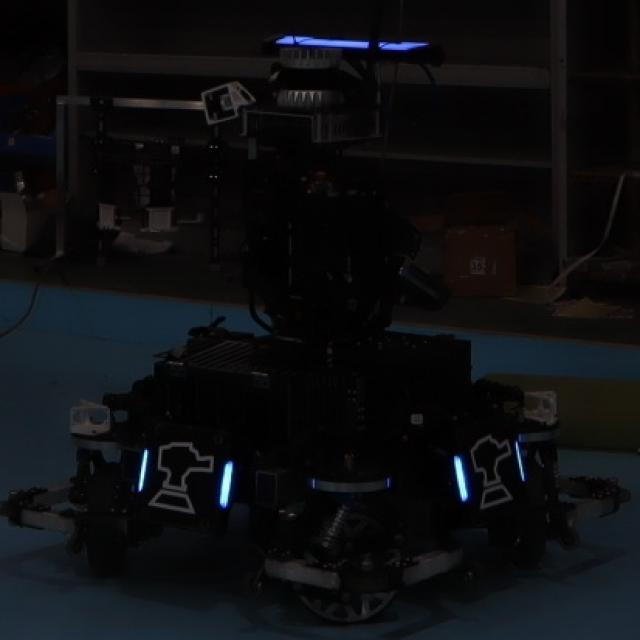Bs: (135, 429, 235, 522), (449, 423, 530, 514)
